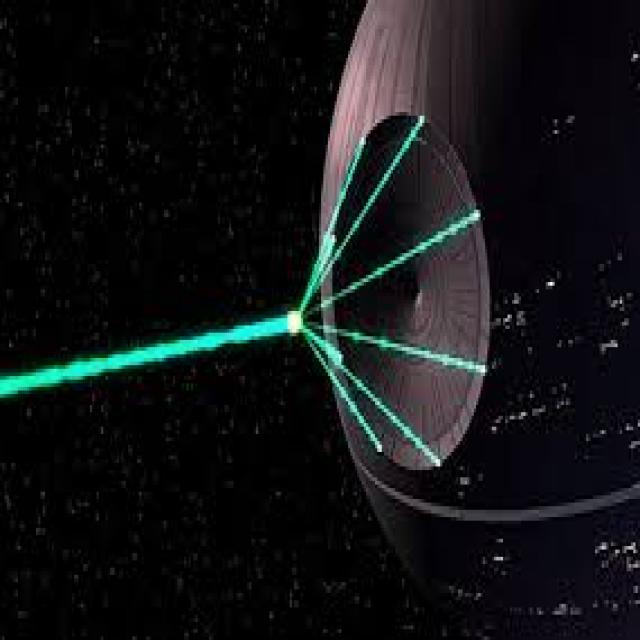death-stars: (317, 0, 640, 640)
